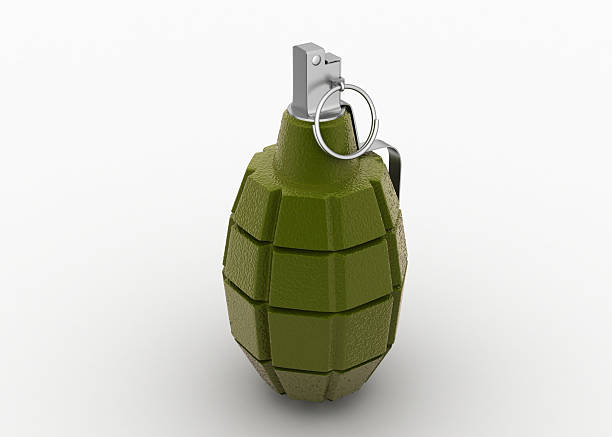e1: (223, 42, 412, 404)
